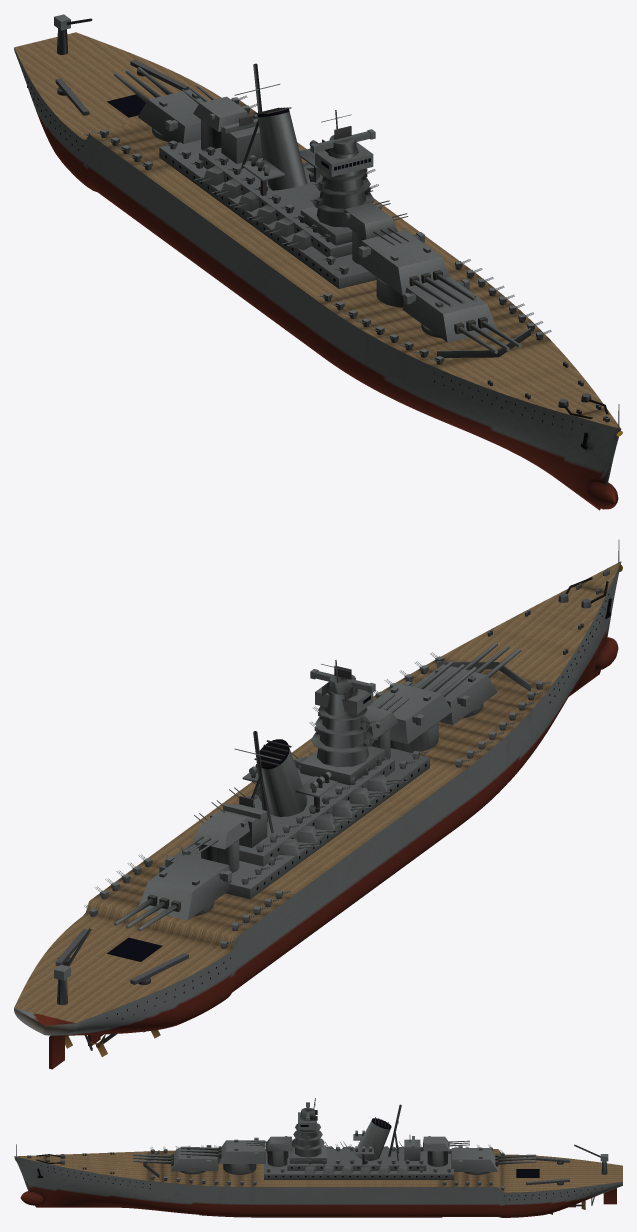
The model's file is model_built.glb.
3 renders of one model, top to bottom at view 1: azimuth 30°, elevation 25°; view 2: azimuth 150°, elevation 25°; view 3: azimuth 270°, elevation 25°, orthographic. The views are drawn at different scales.
Parts seen in each view (by area): view 1: main; view 2: main; view 3: main.
Part boxes in pixels (box(x1,y1,x2,y2)): main: box(14, 14, 622, 510); main: box(14, 540, 622, 1069); main: box(14, 1098, 622, 1217).
Bounding box in the file's own units: 40.12 × 52.23 × 263.
2 materials, 2 textured.
